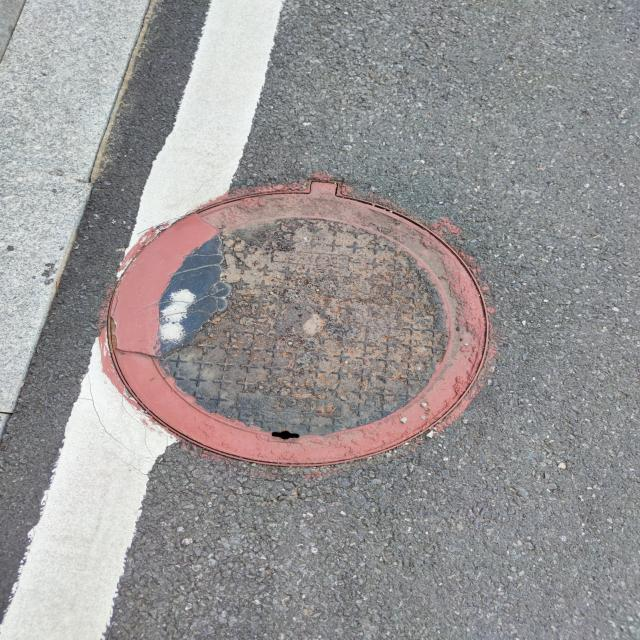Good: (102, 182, 498, 472)
